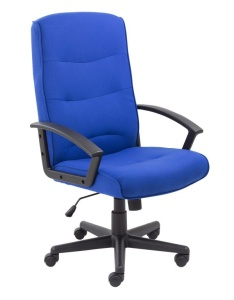chair: (31, 11, 210, 288)
